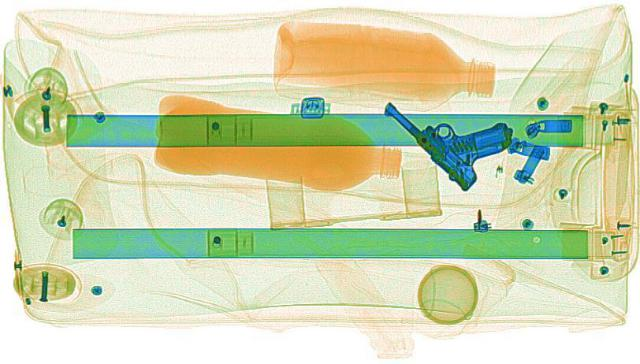Gun: (359, 78, 551, 189)
